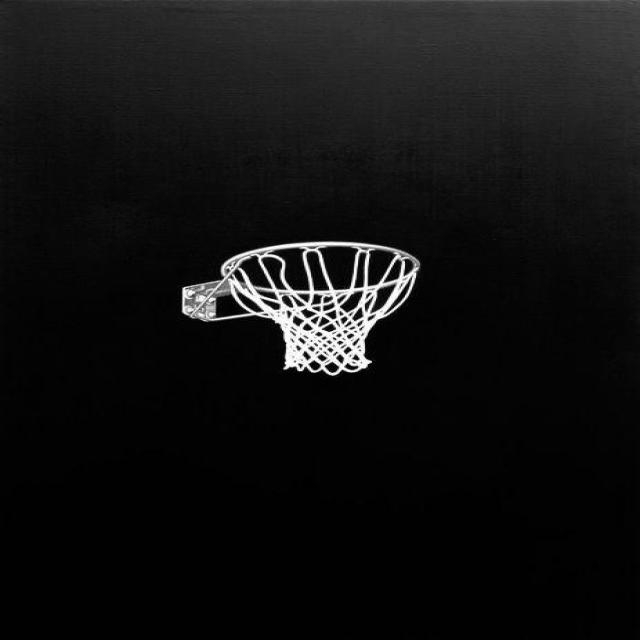hoop: (214, 228, 458, 380)
